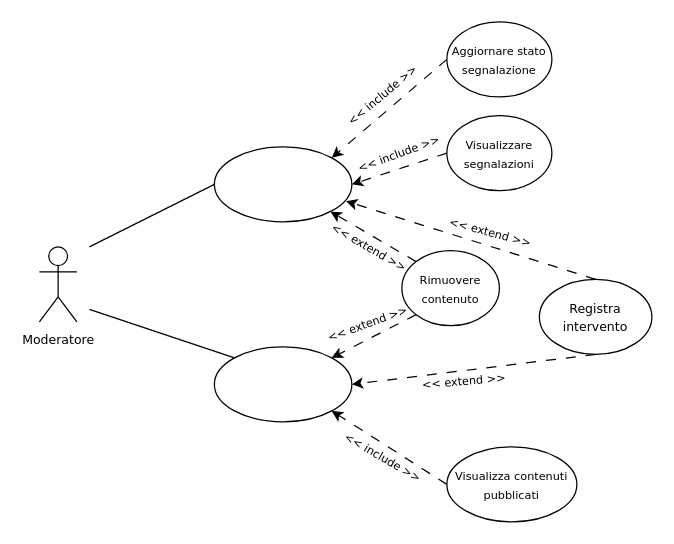
The diagram is 674 pixels wide and 544 high, and some of its shapes have lost their labels. Each missing label, with the centre of its shape:
"Moderare proposte e commenti pubblicati" goes at (x=282, y=384).
"Validare contenuti segnalati" goes at (x=282, y=184).
